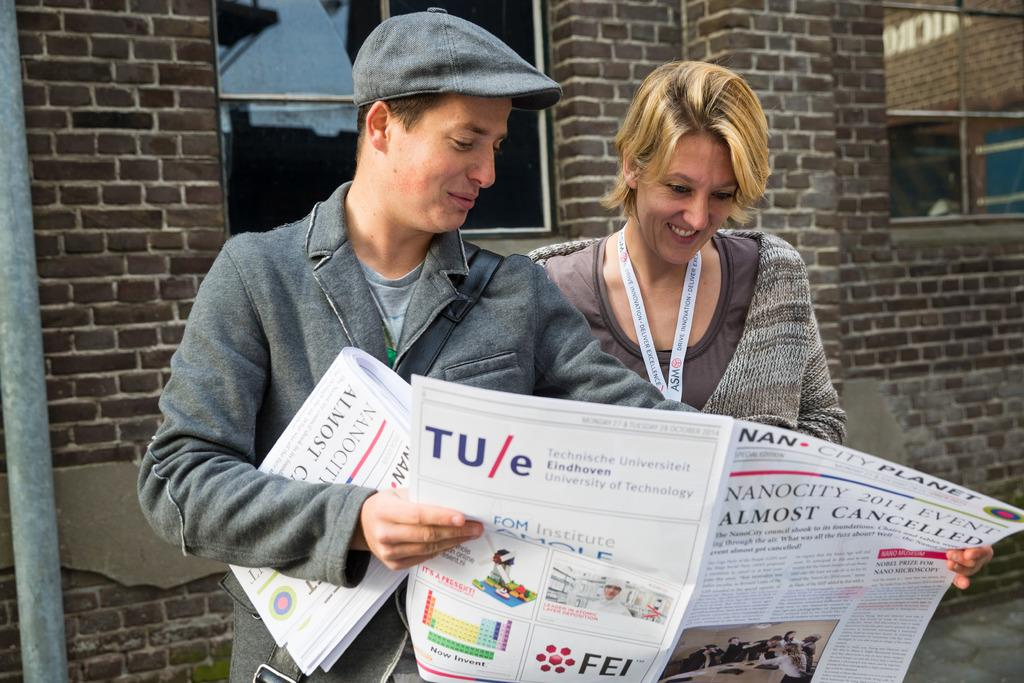Hat: (351, 5, 566, 109)
